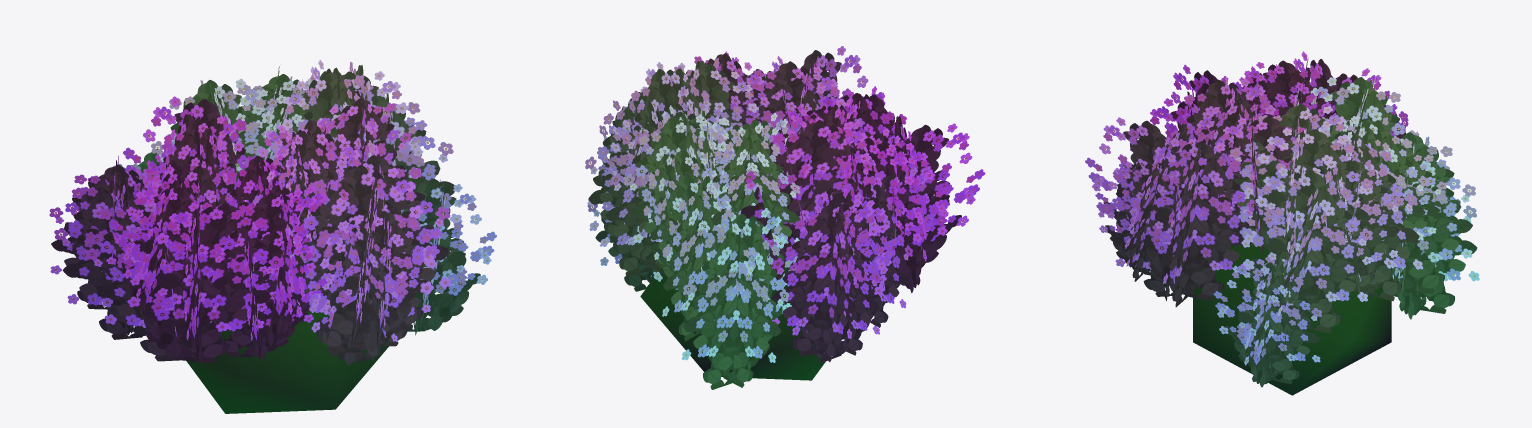
The model's file is nat_bush_flowering_a_LOD1.glb.
3 views of the same model, side by side, from view 1: azimuth 30°, elevation 25°; view 2: azimuth 150°, elevation 25°; view 3: azimuth 270°, elevation 25° (orthographic). The views are drawn at different scales.
Parts seen in each view (by area): view 1: geometry_0; view 2: geometry_0; view 3: geometry_0.
Part boxes in pixels (x1,y1,x2,y2): geometry_0: (49,60,496,413); geometry_0: (585,46,985,389); geometry_0: (1085,51,1479,395).
Bounding box in the file's own units: 1.69 × 1.22 × 1.71.
Materials: 1 (1 with a texture image).
